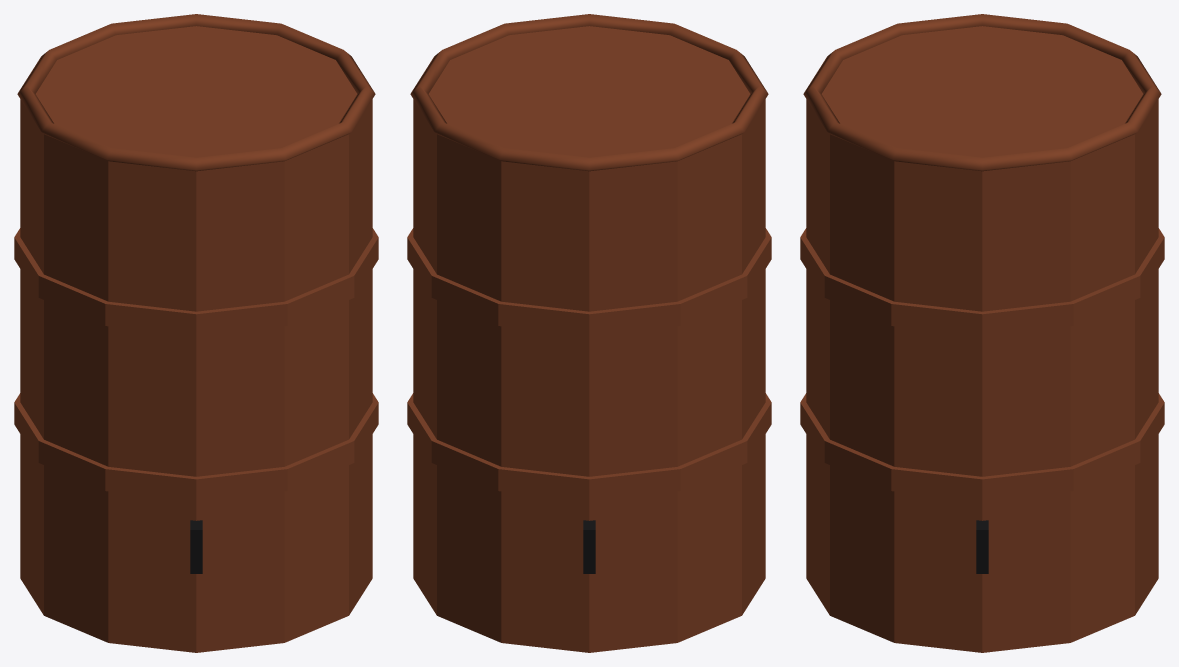
File: oil_drum_fire.glb
3 views of the same model, side by side, from view 1: azimuth 30°, elevation 25°; view 2: azimuth 150°, elevation 25°; view 3: azimuth 270°, elevation 25° (orthographic).
Parts seen in each view (by area): view 1: oil_drum_fire; view 2: oil_drum_fire; view 3: oil_drum_fire.
Boxes of the visible parts, box(x1,y1,x2,y2) form: oil_drum_fire: box(14, 14, 378, 652); oil_drum_fire: box(407, 14, 771, 652); oil_drum_fire: box(800, 14, 1164, 652).
Size of the model in its own units: 0.625 by 0.895 by 0.6.
